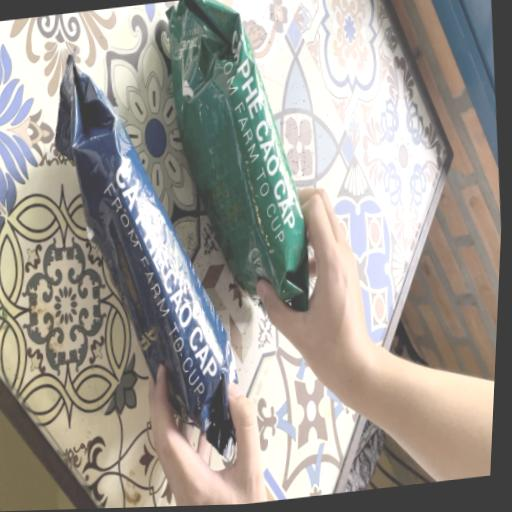cafe_hat: (54, 57, 237, 458)
cafe_xay: (166, 0, 308, 311)
